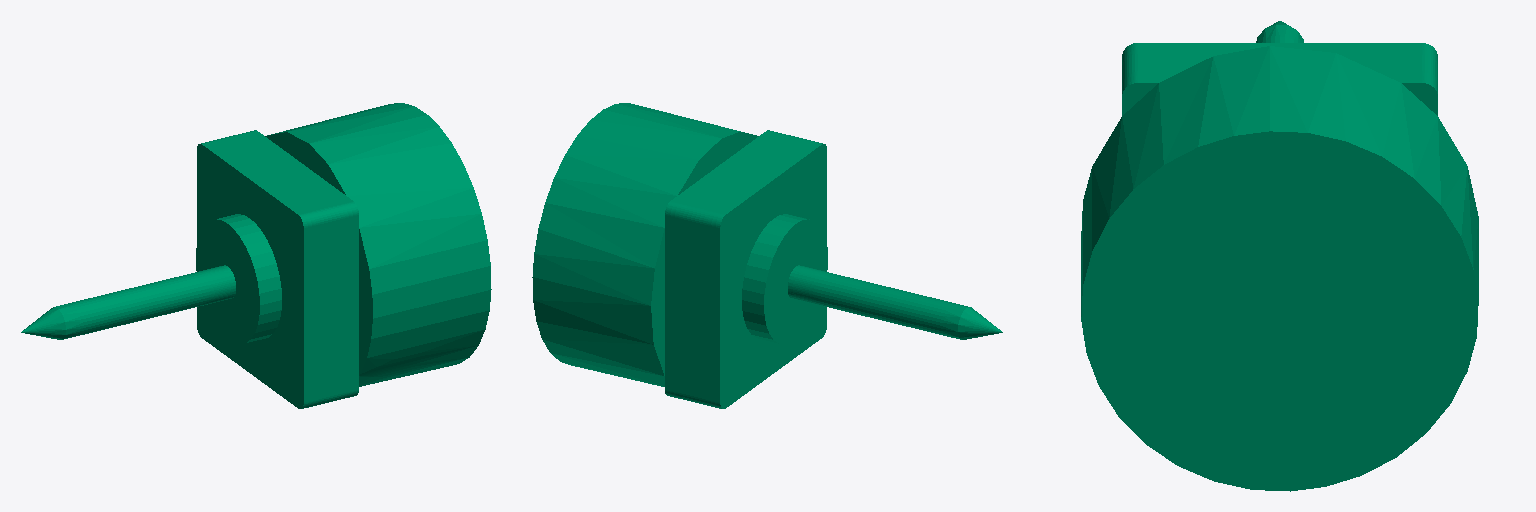
URDF robot description (ur5_with_measurement_tool):
<?xml version="1.0" ?>
<!-- =================================================================================== -->
<!-- |    This document was autogenerated by xacro from ur5_with_measurement_tool.xacro | -->
<!-- |    EDITING THIS FILE BY HAND IS NOT RECOMMENDED                                 | -->
<!-- =================================================================================== -->
<robot name="ur5_with_measurement_tool" xmlns:xacro="http://ros.org/wiki/xacro">
  <!-- measured from model -->
  <!--property name="shoulder_height" value="0.089159" /-->
  <!--property name="shoulder_offset" value="0.13585" /-->
  <!-- shoulder_offset - elbow_offset + wrist_1_length = 0.10915 -->
  <!--property name="upper_arm_length" value="0.42500" /-->
  <!--property name="elbow_offset" value="0.1197" /-->
  <!-- CAD measured -->
  <!--property name="forearm_length" value="0.39225" /-->
  <!--property name="wrist_1_length" value="0.093" /-->
  <!-- CAD measured -->
  <!--property name="wrist_2_length" value="0.09465" /-->
  <!-- In CAD this distance is 0.930, but in the spec it is 0.09465 -->
  <!--property name="wrist_3_length" value="0.0823" /-->
  <!-- manually measured -->
  <link name="base_link">
    <visual>
      <geometry>
        <mesh filename="package://ur_description/meshes/ur5/visual/base.obj"/>
      </geometry>
      <material name="LightGrey">
        <color rgba="0.7 0.7 0.7 1.0"/>
      </material>
    </visual>
    <collision>
      <geometry>
        <mesh filename="package://ur_description/meshes/ur5/collision/base.stl"/>
      </geometry>
    </collision>
    <inertial>
      <mass value="4.0"/>
      <origin rpy="0 0 0" xyz="0.0 0.0 0.0"/>
      <inertia ixx="0.00443333156" ixy="0.0" ixz="0.0" iyy="0.00443333156" iyz="0.0" izz="0.0072"/>
    </inertial>
  </link>
  <joint name="shoulder_pan_joint" type="revolute">
    <parent link="base_link"/>
    <child link="shoulder_link"/>
    <origin rpy="0.0 0.0 0.0" xyz="0.0 0.0 0.089159"/>
    <axis xyz="0 0 1"/>
    <limit effort="150.0" lower="-3.14159265" upper="3.14159265" velocity="3.15"/>
    <dynamics damping="0.0" friction="0.0"/>
  </joint>
  <link name="shoulder_link">
    <visual>
      <geometry>
        <mesh filename="package://ur_description/meshes/ur5/visual/shoulder.obj"/>
      </geometry>
      <material name="LightGrey">
        <color rgba="0.7 0.7 0.7 1.0"/>
      </material>
    </visual>
    <collision>
      <geometry>
        <mesh filename="package://ur_description/meshes/ur5/collision/shoulder.stl"/>
      </geometry>
    </collision>
    <inertial>
      <mass value="3.7"/>
      <origin rpy="0 0 0" xyz="0.0 0.0 0.0"/>
      <inertia ixx="0.010267495893" ixy="0.0" ixz="0.0" iyy="0.010267495893" iyz="0.0" izz="0.00666"/>
    </inertial>
  </link>
  <joint name="shoulder_lift_joint" type="revolute">
    <parent link="shoulder_link"/>
    <child link="upper_arm_link"/>
    <origin rpy="0.0 1.570796325 0.0" xyz="0.0 0.13585 0.0"/>
    <axis xyz="0 1 0"/>
    <limit effort="150.0" lower="-3.14159265" upper="3.14159265" velocity="3.15"/>
    <dynamics damping="0.0" friction="0.0"/>
  </joint>
  <link name="upper_arm_link">
    <visual>
      <geometry>
        <mesh filename="package://ur_description/meshes/ur5/visual/upperarm.obj"/>
      </geometry>
      <material name="LightGrey">
        <color rgba="0.7 0.7 0.7 1.0"/>
      </material>
    </visual>
    <collision>
      <geometry>
        <mesh filename="package://ur_description/meshes/ur5/collision/upperarm.stl"/>
      </geometry>
    </collision>
    <inertial>
      <mass value="8.393"/>
      <origin rpy="0 0 0" xyz="0.0 0.0 0.28"/>
      <inertia ixx="0.22689067591" ixy="0.0" ixz="0.0" iyy="0.22689067591" iyz="0.0" izz="0.0151074"/>
    </inertial>
  </link>
  <joint name="elbow_joint" type="revolute">
    <parent link="upper_arm_link"/>
    <child link="forearm_link"/>
    <origin rpy="0.0 0.0 0.0" xyz="0.0 -0.1197 0.425"/>
    <axis xyz="0 1 0"/>
    <limit effort="150.0" lower="-3.14159265" upper="3.14159265" velocity="3.15"/>
    <dynamics damping="0.0" friction="0.0"/>
  </joint>
  <link name="forearm_link">
    <visual>
      <geometry>
        <mesh filename="package://ur_description/meshes/ur5/visual/forearm.obj"/>
      </geometry>
      <material name="LightGrey">
        <color rgba="0.7 0.7 0.7 1.0"/>
      </material>
    </visual>
    <collision>
      <geometry>
        <mesh filename="package://ur_description/meshes/ur5/collision/forearm.stl"/>
      </geometry>
    </collision>
    <inertial>
      <mass value="2.275"/>
      <origin rpy="0 0 0" xyz="0.0 0.0 0.25"/>
      <inertia ixx="0.049443313556" ixy="0.0" ixz="0.0" iyy="0.049443313556" iyz="0.0" izz="0.004095"/>
    </inertial>
  </link>
  <joint name="wrist_1_joint" type="revolute">
    <parent link="forearm_link"/>
    <child link="wrist_1_link"/>
    <origin rpy="0.0 1.570796325 0.0" xyz="0.0 0.0 0.39225"/>
    <axis xyz="0 1 0"/>
    <limit effort="28.0" lower="-3.14159265" upper="3.14159265" velocity="3.2"/>
    <dynamics damping="0.0" friction="0.0"/>
  </joint>
  <link name="wrist_1_link">
    <visual>
      <geometry>
        <mesh filename="package://ur_description/meshes/ur5/visual/wrist1.obj"/>
      </geometry>
      <material name="LightGrey">
        <color rgba="0.7 0.7 0.7 1.0"/>
      </material>
    </visual>
    <collision>
      <geometry>
        <mesh filename="package://ur_description/meshes/ur5/collision/wrist1.stl"/>
      </geometry>
    </collision>
    <inertial>
      <mass value="1.219"/>
      <origin rpy="0 0 0" xyz="0.0 0.0 0.0"/>
      <inertia ixx="0.111172755531" ixy="0.0" ixz="0.0" iyy="0.111172755531" iyz="0.0" izz="0.21942"/>
    </inertial>
  </link>
  <joint name="wrist_2_joint" type="revolute">
    <parent link="wrist_1_link"/>
    <child link="wrist_2_link"/>
    <origin rpy="0.0 0.0 0.0" xyz="0.0 0.093 0.0"/>
    <axis xyz="0 0 1"/>
    <limit effort="28.0" lower="-3.14159265" upper="3.14159265" velocity="3.2"/>
    <dynamics damping="0.0" friction="0.0"/>
  </joint>
  <link name="wrist_2_link">
    <visual>
      <geometry>
        <mesh filename="package://ur_description/meshes/ur5/visual/wrist2.obj"/>
      </geometry>
      <material name="LightGrey">
        <color rgba="0.7 0.7 0.7 1.0"/>
      </material>
    </visual>
    <collision>
      <geometry>
        <mesh filename="package://ur_description/meshes/ur5/collision/wrist2.stl"/>
      </geometry>
    </collision>
    <inertial>
      <mass value="1.219"/>
      <origin rpy="0 0 0" xyz="0.0 0.0 0.0"/>
      <inertia ixx="0.111172755531" ixy="0.0" ixz="0.0" iyy="0.111172755531" iyz="0.0" izz="0.21942"/>
    </inertial>
  </link>
  <joint name="wrist_3_joint" type="revolute">
    <parent link="wrist_2_link"/>
    <child link="wrist_3_link"/>
    <origin rpy="0.0 0.0 0.0" xyz="0.0 0.0 0.09465"/>
    <axis xyz="0 1 0"/>
    <limit effort="28.0" lower="-3.14159265" upper="3.14159265" velocity="3.2"/>
    <dynamics damping="0.0" friction="0.0"/>
  </joint>
  <link name="wrist_3_link">
    <visual>
      <geometry>
        <mesh filename="package://ur_description/meshes/ur5/visual/wrist3.obj"/>
      </geometry>
      <material name="LightGrey">
        <color rgba="0.7 0.7 0.7 1.0"/>
      </material>
    </visual>
    <collision>
      <geometry>
        <mesh filename="package://ur_description/meshes/ur5/collision/wrist3.stl"/>
      </geometry>
    </collision>
    <inertial>
      <mass value="0.1879"/>
      <origin rpy="0 0 0" xyz="0.0 0.0 0.0"/>
      <inertia ixx="0.0171364731454" ixy="0.0" ixz="0.0" iyy="0.0171364731454" iyz="0.0" izz="0.033822"/>
    </inertial>
  </link>
  <joint name="ee_fixed_joint" type="fixed">
    <parent link="wrist_3_link"/>
    <child link="ee_link"/>
    <origin rpy="0.0 0.0 1.570796325" xyz="0.0 0.0823 0.0"/>
  </joint>
  <link name="ee_link">
    <collision>
      <geometry>
        <box size="0.01 0.01 0.01"/>
      </geometry>
      <origin rpy="0 0 0" xyz="-0.01 0 0"/>
    </collision>
  </link>
  <transmission name="shoulder_pan_trans">
    <type>transmission_interface/SimpleTransmission</type>
    <joint name="shoulder_pan_joint">
      <hardwareInterface>PositionJointInterface</hardwareInterface>
    </joint>
    <actuator name="shoulder_pan_motor">
      <mechanicalReduction>1</mechanicalReduction>
    </actuator>
  </transmission>
  <transmission name="shoulder_lift_trans">
    <type>transmission_interface/SimpleTransmission</type>
    <joint name="shoulder_lift_joint">
      <hardwareInterface>PositionJointInterface</hardwareInterface>
    </joint>
    <actuator name="shoulder_lift_motor">
      <mechanicalReduction>1</mechanicalReduction>
    </actuator>
  </transmission>
  <transmission name="elbow_trans">
    <type>transmission_interface/SimpleTransmission</type>
    <joint name="elbow_joint">
      <hardwareInterface>PositionJointInterface</hardwareInterface>
    </joint>
    <actuator name="elbow_motor">
      <mechanicalReduction>1</mechanicalReduction>
    </actuator>
  </transmission>
  <transmission name="wrist_1_trans">
    <type>transmission_interface/SimpleTransmission</type>
    <joint name="wrist_1_joint">
      <hardwareInterface>PositionJointInterface</hardwareInterface>
    </joint>
    <actuator name="wrist_1_motor">
      <mechanicalReduction>1</mechanicalReduction>
    </actuator>
  </transmission>
  <transmission name="wrist_2_trans">
    <type>transmission_interface/SimpleTransmission</type>
    <joint name="wrist_2_joint">
      <hardwareInterface>PositionJointInterface</hardwareInterface>
    </joint>
    <actuator name="wrist_2_motor">
      <mechanicalReduction>1</mechanicalReduction>
    </actuator>
  </transmission>
  <transmission name="wrist_3_trans">
    <type>transmission_interface/SimpleTransmission</type>
    <joint name="wrist_3_joint">
      <hardwareInterface>PositionJointInterface</hardwareInterface>
    </joint>
    <actuator name="wrist_3_motor">
      <mechanicalReduction>1</mechanicalReduction>
    </actuator>
  </transmission>
  <!-- nothing to do here at the moment -->
  <!-- ROS base_link to UR 'Base' Coordinates transform -->
  <link name="base"/>
  <joint name="base_link-base_fixed_joint" type="fixed">
    <!-- NOTE: this rotation is only needed as long as base_link itself is
                 not corrected wrt the real robot (ie: rotated over 180
                 degrees)
      -->
    <origin rpy="0 0 -3.14159265" xyz="0 0 0"/>
    <parent link="base_link"/>
    <child link="base"/>
  </joint>
  <!-- Frame coincident with all-zeros TCP on UR controller -->
  <link name="tool0"/>
  <joint name="wrist_3_link-tool0_fixed_joint" type="fixed">
    <origin rpy="-1.570796325 0 0" xyz="0 0.0823 0"/>
    <parent link="wrist_3_link"/>
    <child link="tool0"/>
  </joint>
  <joint name="measurement_tool_joint" type="fixed">
    <parent link="tool0"/>
    <child link="measurement_tool"/>
    <origin rpy="0 0 0" xyz="0 0 0"/>
  </joint>
  <link name="measurement_tool">
    <visual>
      <geometry>
        <mesh filename="package://ur5_with_measurement_tool/meshes/visual/measurement_tool.stl"/>
      </geometry>
    </visual>
    <collision>
      <geometry>
        <mesh filename="package://ur5_with_measurement_tool/meshes/collision/measurement_tool.stl"/>
      </geometry>
    </collision>
  </link>
  <!-- TCP frame -->
  <link name="tcp"/>
  <joint name="tcp_joint" type="fixed">
    <origin rpy="0 0 0" xyz="0 0 0.116"/>
    <parent link="measurement_tool"/>
    <child link="tcp"/>
  </joint>
  <!-- define the ur5's position and orientation in the world coordinate system -->
  <link name="world"/>
  <joint name="world_joint" type="fixed">
    <parent link="world"/>
    <child link="base_link"/>
    <origin rpy="0.0 0.0 0.0" xyz="0.0 0.0 0.0"/>
  </joint>
</robot>

--- Facts derived from the render (not from the file) ---
The picture shows the robot from 3 angles, left to right: view 1: azimuth 30°, elevation 25°; view 2: azimuth 150°, elevation 25°; view 3: azimuth 270°, elevation 25°; orthographic projection.
Model ur5_with_measurement_tool with 13 links and 12 joints (6 revolute, 6 fixed), rooted at world, posed all joints at 0.
Links seen in each view (by area): view 1: measurement_tool; view 2: measurement_tool; view 3: measurement_tool.
Boxes of the visible links, <box> form: measurement_tool: <box>21,103,491,408</box>; measurement_tool: <box>532,103,1002,408</box>; measurement_tool: <box>1081,21,1478,491</box>.
Size in the robot's own frame: 0.109 by 0.0629 by 0.0629 metres.
1 mesh visuals loaded from 8 distinct referenced files (1 binary STL); not drawn: 7 (reference not matched to a file when rendering).